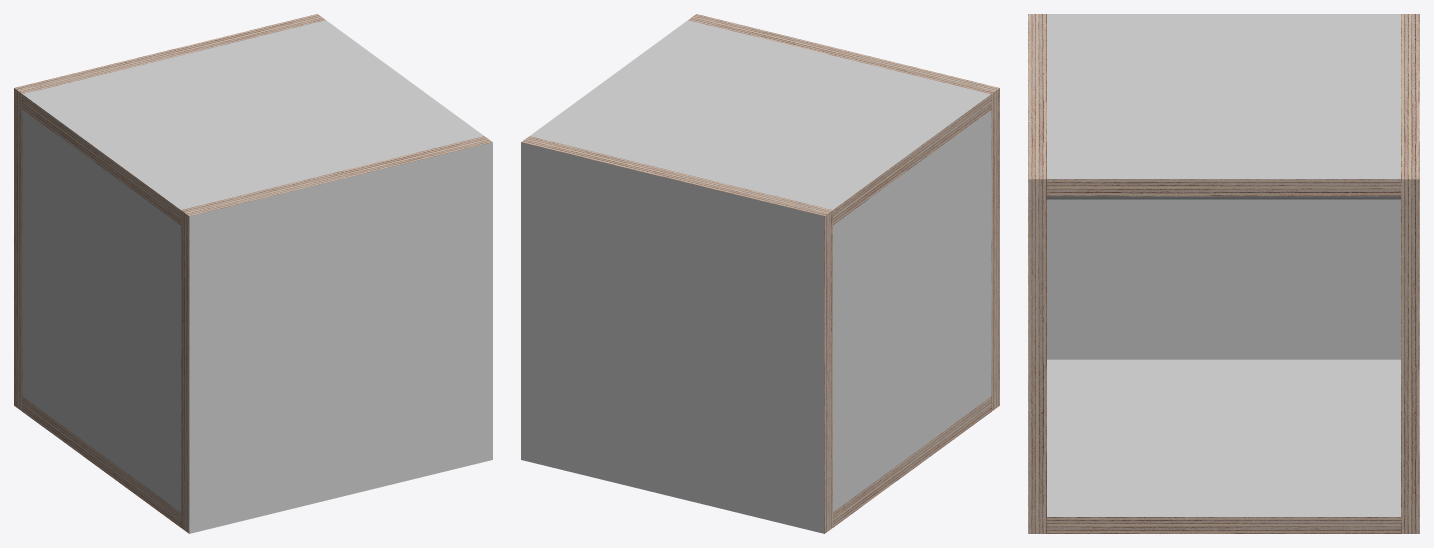
Rendered from Hanger Closed.fbx.
The picture shows the model from 3 angles, left to right: view 1: azimuth 30°, elevation 25°; view 2: azimuth 150°, elevation 25°; view 3: azimuth 270°, elevation 25°; orthographic projection. The views are drawn at different scales.
Parts seen in each view (by area): view 1: Closed Hanger TL, Closed Hanger BL, Closed Hanger L, Closed Hanger T, Closed Hanger TR, Closed Hanger B, Closed Hanger BR, Closed Hanger C, Closed Hanger R; view 2: Closed Hanger TR, Closed Hanger BR, Closed Hanger R, Closed Hanger T, Closed Hanger TL, Closed Hanger B, Closed Hanger BL, Closed Hanger C, Closed Hanger L; view 3: Closed Hanger B, Closed Hanger BL, Closed Hanger BR, Closed Hanger TL, Closed Hanger TR, Closed Hanger T, Closed Hanger L, Closed Hanger R, Closed Hanger C.
Boxes of the visible parts, left/top/right/bottom form: Closed Hanger TL: left=131, top=99, right=492, bottom=321; Closed Hanger BL: left=131, top=354, right=492, bottom=533; Closed Hanger L: left=131, top=248, right=492, bottom=427; Closed Hanger T: left=72, top=57, right=433, bottom=278; Closed Hanger TR: left=14, top=14, right=375, bottom=236; Closed Hanger B: left=72, top=343, right=130, bottom=490; Closed Hanger BR: left=14, top=300, right=72, bottom=448; Closed Hanger C: left=72, top=237, right=130, bottom=384; Closed Hanger R: left=14, top=194, right=72, bottom=342; Closed Hanger TR: left=521, top=99, right=882, bottom=321; Closed Hanger BR: left=521, top=354, right=882, bottom=533; Closed Hanger R: left=521, top=248, right=882, bottom=427; Closed Hanger T: left=580, top=57, right=941, bottom=278; Closed Hanger TL: left=638, top=14, right=999, bottom=236; Closed Hanger B: left=883, top=343, right=941, bottom=490; Closed Hanger BL: left=941, top=300, right=999, bottom=448; Closed Hanger C: left=883, top=237, right=941, bottom=384; Closed Hanger L: left=941, top=194, right=999, bottom=342; Closed Hanger B: left=1158, top=258, right=1289, bottom=533; Closed Hanger BL: left=1028, top=258, right=1158, bottom=533; Closed Hanger BR: left=1289, top=258, right=1419, bottom=533; Closed Hanger TL: left=1028, top=14, right=1158, bottom=297; Closed Hanger TR: left=1289, top=14, right=1419, bottom=297; Closed Hanger T: left=1158, top=14, right=1289, bottom=200; Closed Hanger L: left=1028, top=200, right=1158, bottom=415; Closed Hanger R: left=1289, top=200, right=1419, bottom=415; Closed Hanger C: left=1158, top=200, right=1289, bottom=258.
Size of the model in its own units: 40 by 40.01 by 40.
